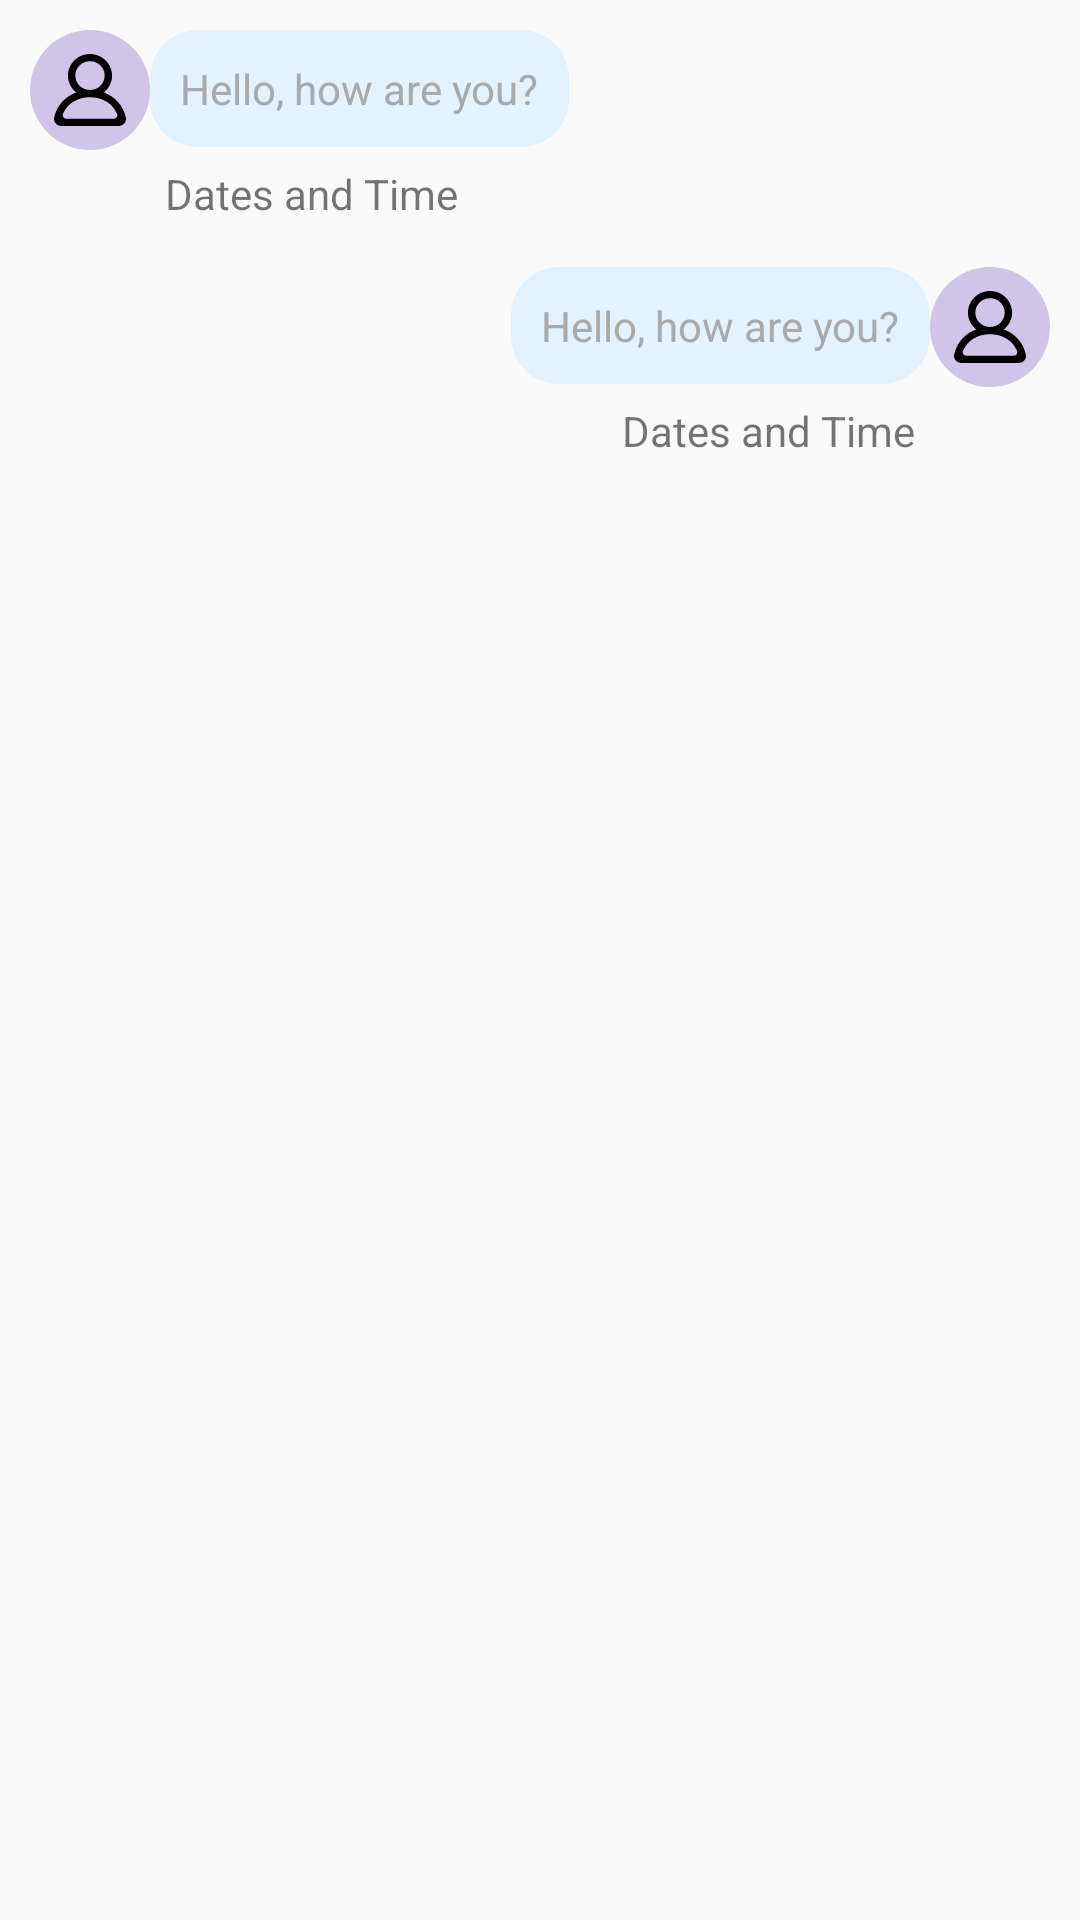

Point at icon controls on the screen. Image size 1080px x 1920px, points as (x=x, y=y).
profile: (x=90, y=90), (x=990, y=327)
